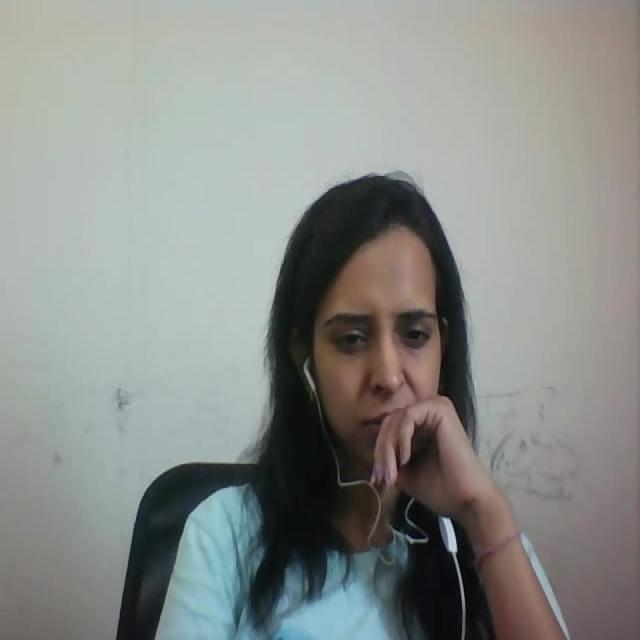Bored: (261, 156, 509, 488)
